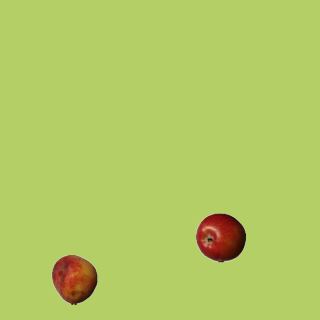Apple Braeburn: (195, 212, 245, 262)
Peach: (49, 254, 99, 304)
